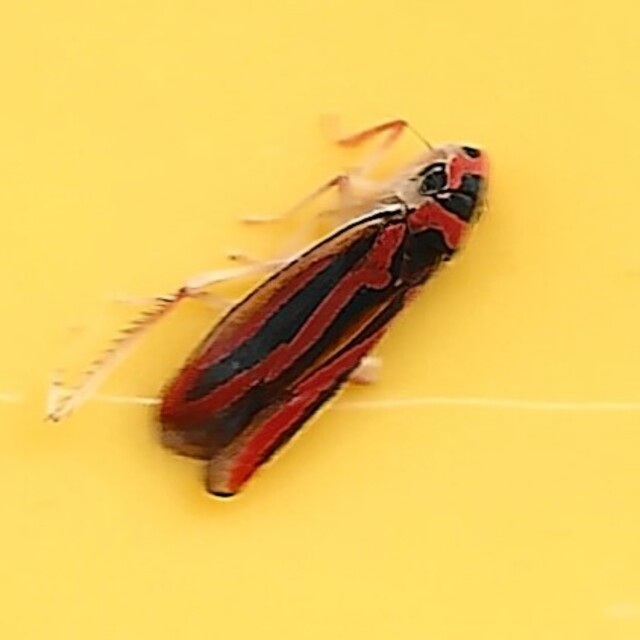Hemiptera: (152, 140, 488, 500)
